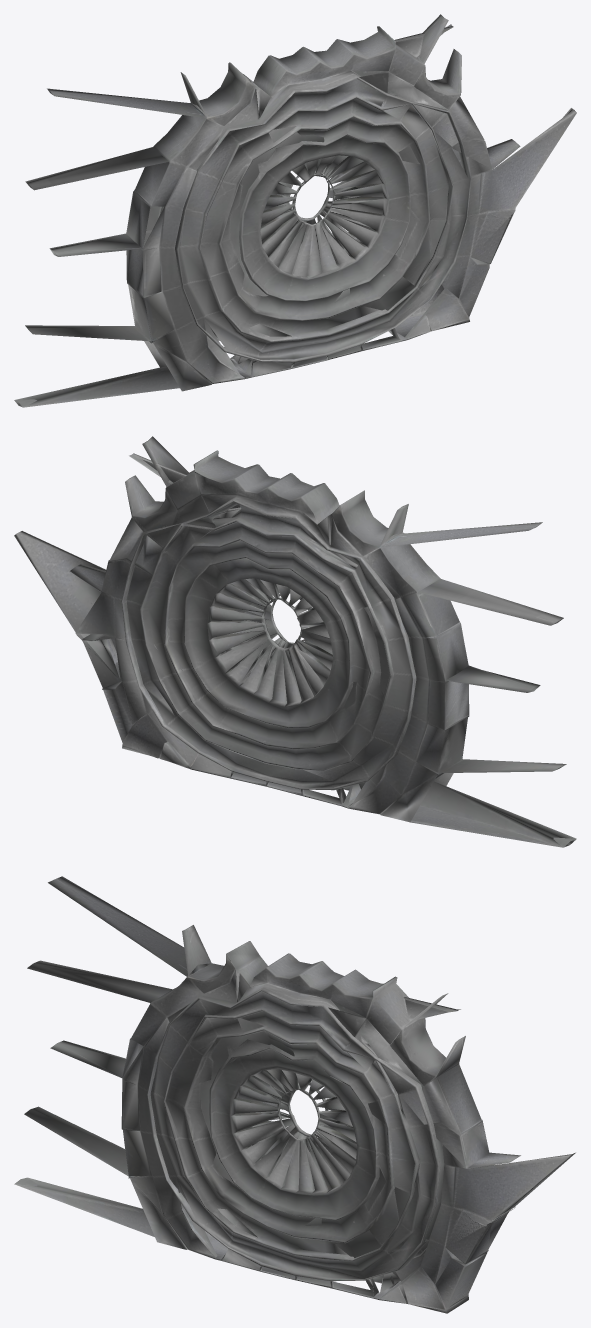
File: selected.glb
The picture shows the model from 3 angles, top to bottom: view 1: azimuth 30°, elevation 25°; view 2: azimuth 150°, elevation 25°; view 3: azimuth 330°, elevation 25°; orthographic projection. The views are drawn at different scales.
Parts seen in each view (by area): view 1: tripo_node_661fb9ca-2c54-4c2d-8739-0f949de5c4a0; view 2: tripo_node_661fb9ca-2c54-4c2d-8739-0f949de5c4a0; view 3: tripo_node_661fb9ca-2c54-4c2d-8739-0f949de5c4a0.
Boxes of the visible parts, left/top/right/bottom form: tripo_node_661fb9ca-2c54-4c2d-8739-0f949de5c4a0: left=14, top=14, right=576, bottom=407; tripo_node_661fb9ca-2c54-4c2d-8739-0f949de5c4a0: left=14, top=436, right=576, bottom=847; tripo_node_661fb9ca-2c54-4c2d-8739-0f949de5c4a0: left=14, top=876, right=575, bottom=1313.
Size of the model in its own units: 0.998 by 0.5488 by 0.1113.
Materials: 1 (1 with a texture image).
